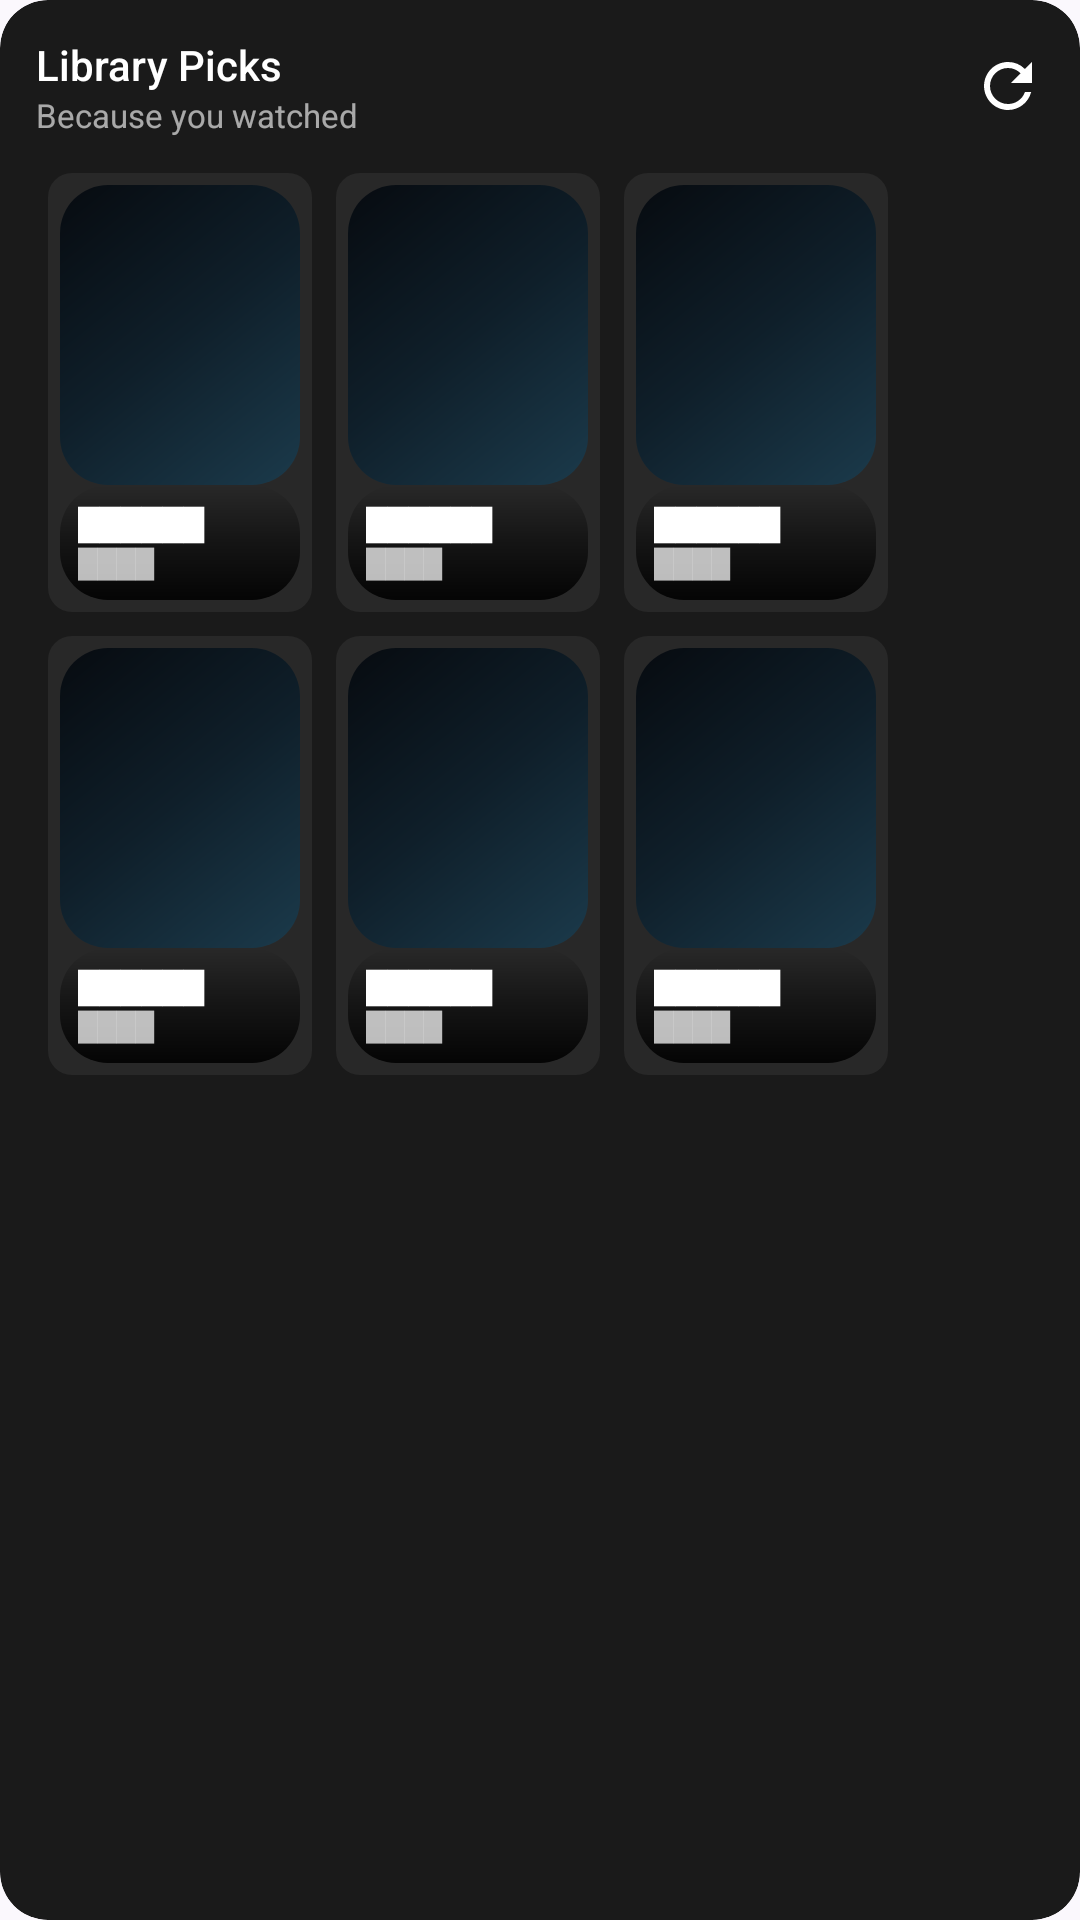

Icons on this 1080*1920 Android screen, each with its box as {"x1": x1, "y1": y1, "x2": x2, "y2": y2}:
widget refresh: {"x1": 984, "y1": 62, "x2": 1032, "y2": 110}
